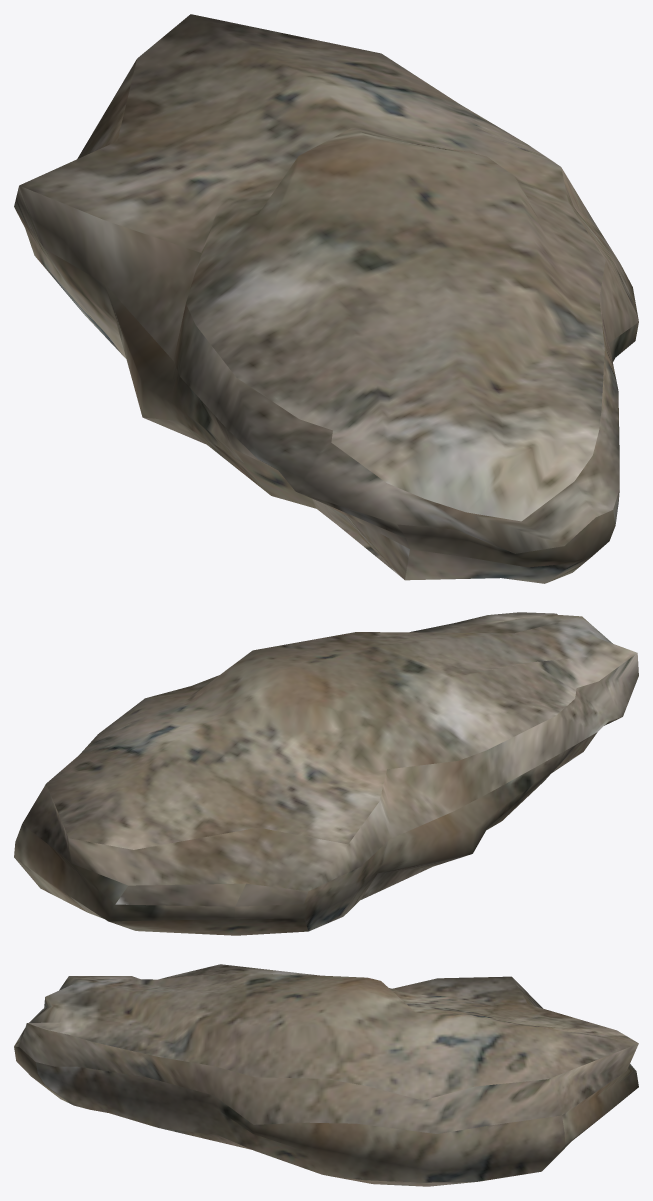
3 views of the same model, one above another, from view 1: azimuth 30°, elevation 25°; view 2: azimuth 150°, elevation 25°; view 3: azimuth 270°, elevation 25° (orthographic). The views are drawn at different scales.
Parts seen in each view (by area): view 1: Object_6; view 2: Object_6; view 3: Object_6.
Boxes of the visible parts, <box> form: Object_6: <box>14,14,638,583</box>; Object_6: <box>14,612,638,935</box>; Object_6: <box>14,964,638,1186</box>.
Size of the model in its own units: 0.3484 by 0.2073 by 0.637.
Materials: 1 (1 with a texture image).
